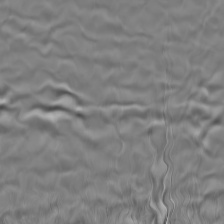cavities: (6, 103, 223, 218)
